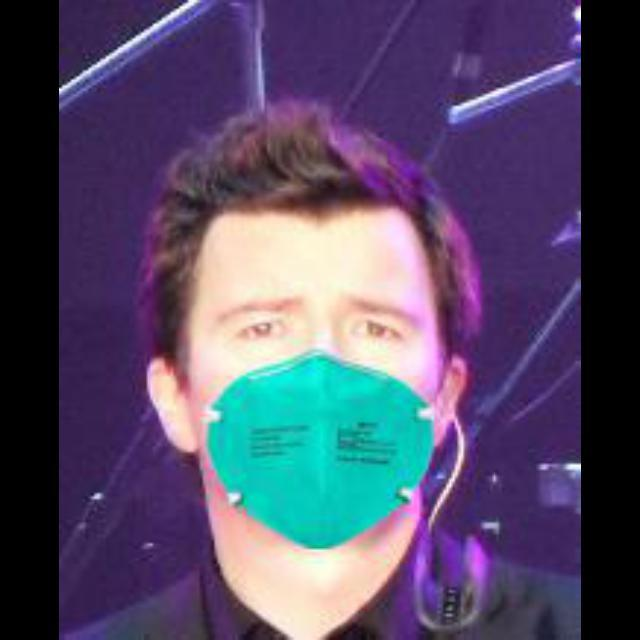suspicion: (110, 58, 560, 590)
